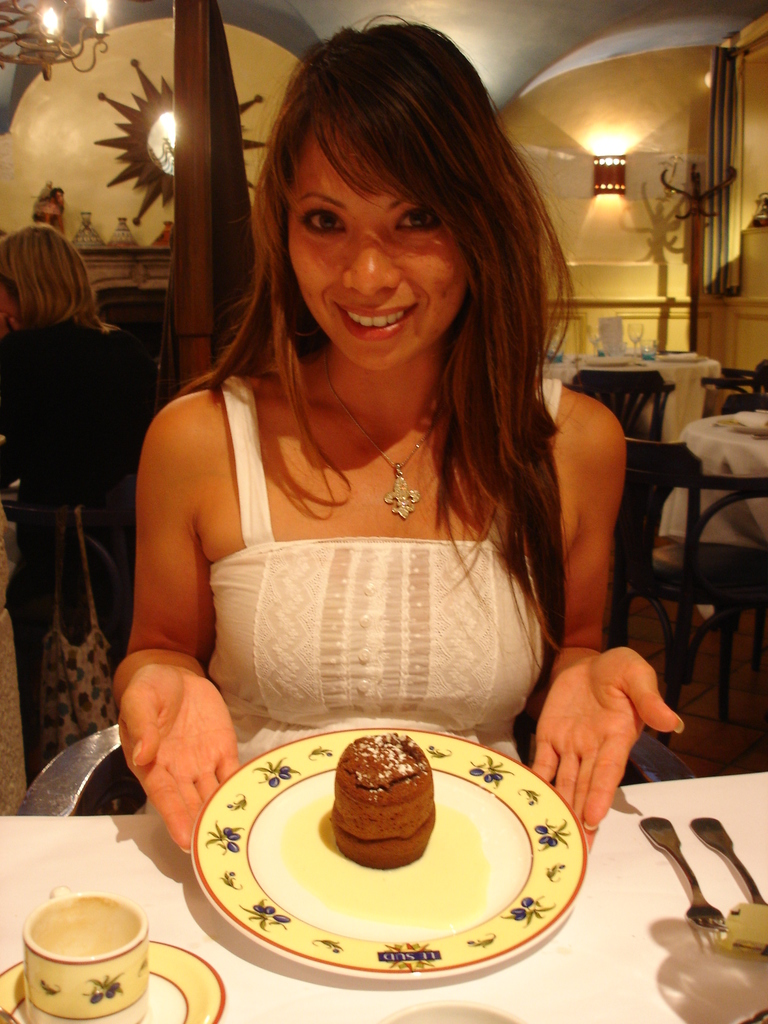cake: (331, 732, 438, 875)
